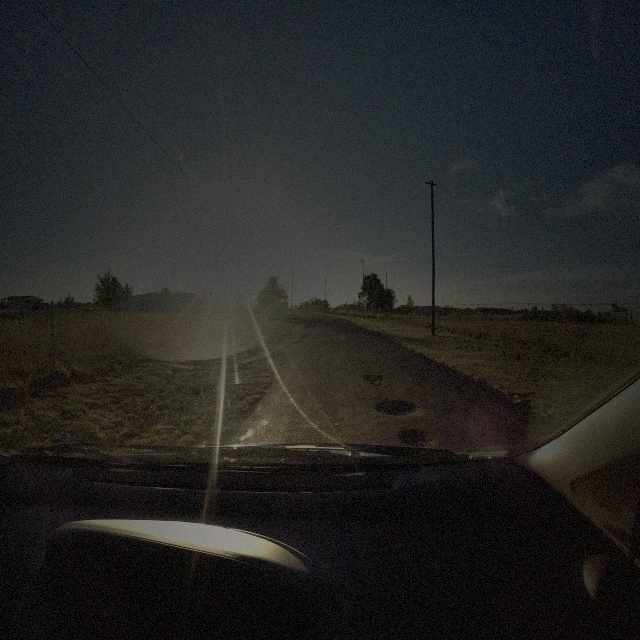pothole: (374, 398, 421, 417), (399, 428, 437, 451), (363, 371, 387, 386)
